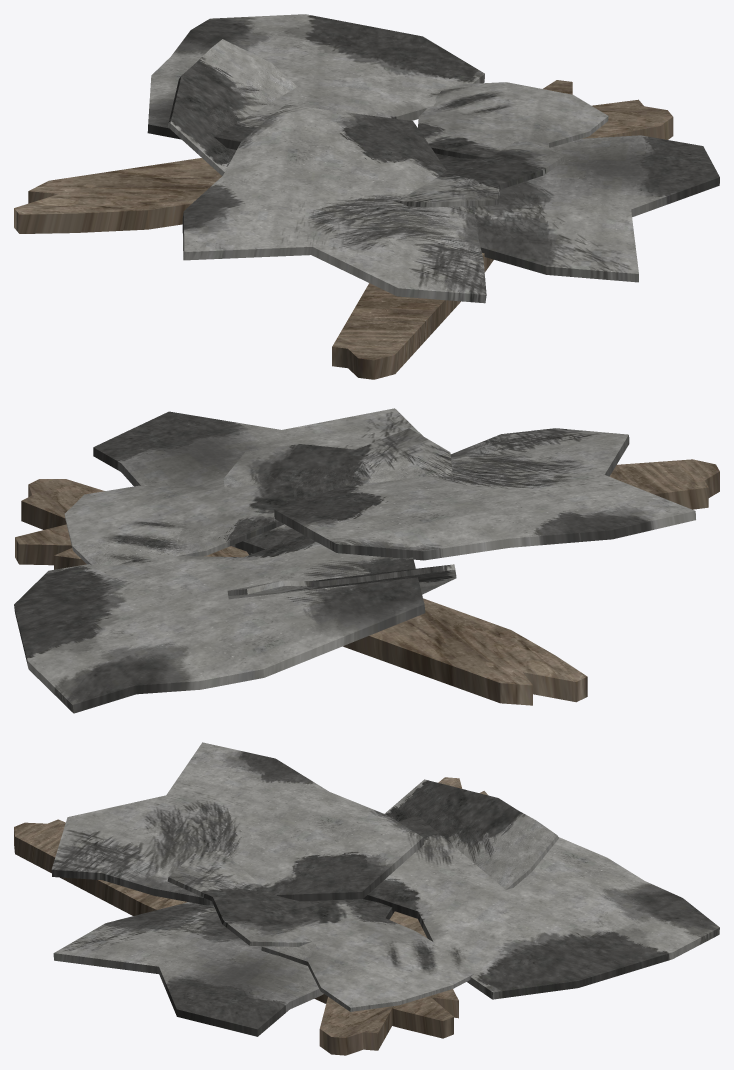
File: Escombros_1.fbx
3 renders of one model, top to bottom at view 1: azimuth 30°, elevation 25°; view 2: azimuth 150°, elevation 25°; view 3: azimuth 270°, elevation 25°, orthographic. The views are drawn at different scales.
Visible parts, largest first — view 1: pCube9; view 2: pCube9; view 3: pCube9.
Part boxes in pixels (<box>): pCube9: <box>14,14,719,379</box>; pCube9: <box>14,408,719,713</box>; pCube9: <box>14,742,719,1055</box>.
Bounding box in the file's own units: 1.01 × 0.1481 × 1.15.
